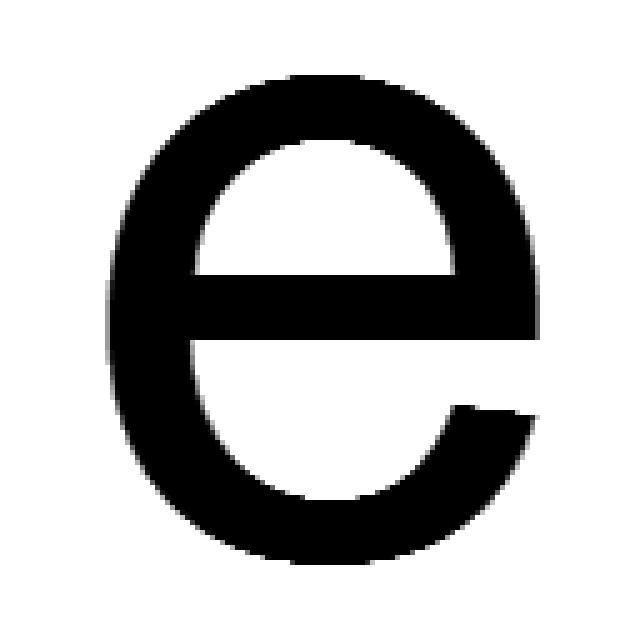E: (110, 75, 540, 565)
